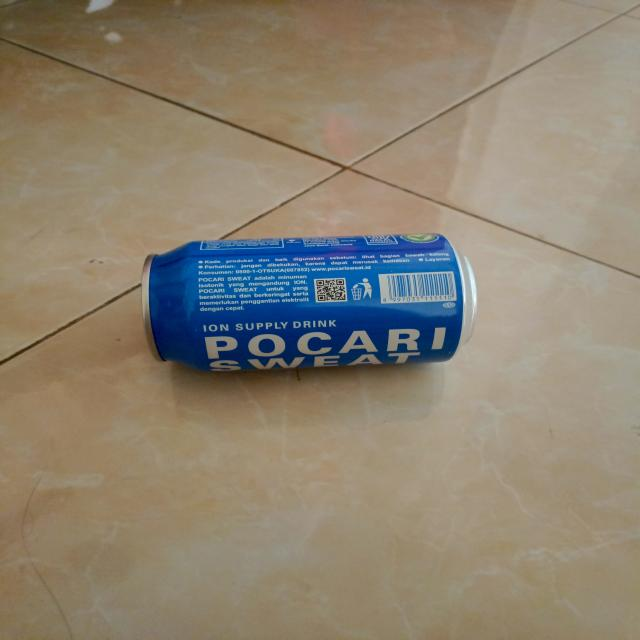pocari-sweat: (137, 236, 482, 374)
